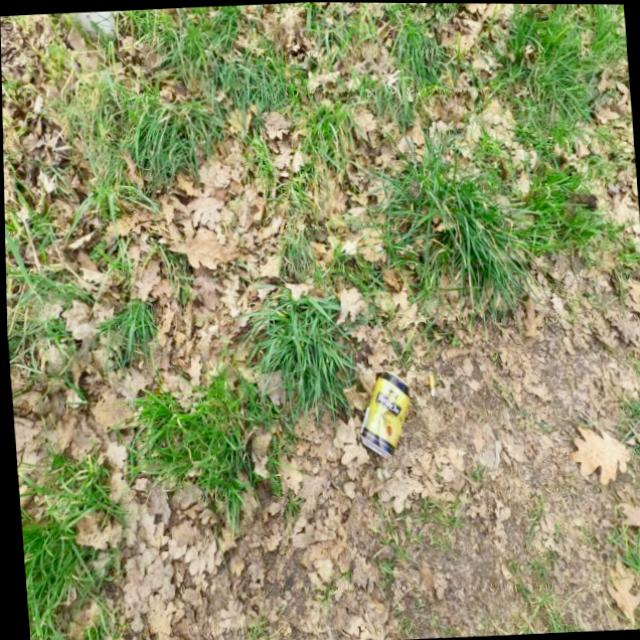Can-Metal: (350, 366, 417, 459)
